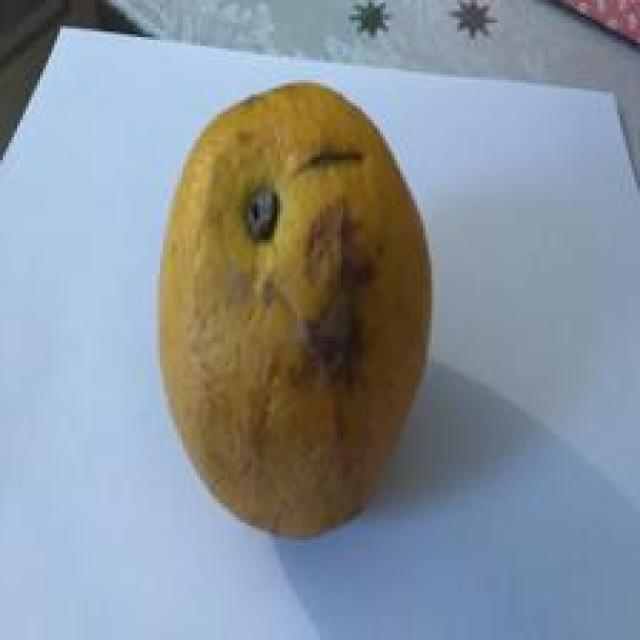overripe: (152, 77, 441, 543)
